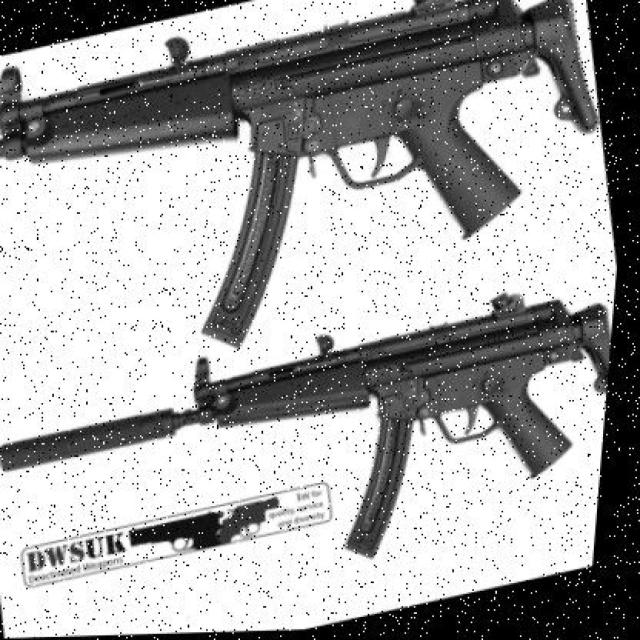weapon: (0, 0, 598, 351), (0, 157, 614, 428), (130, 510, 224, 553), (218, 498, 280, 544)
